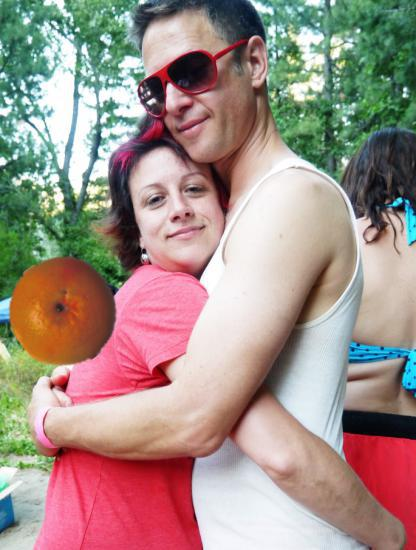Grapefruit: (8, 256, 119, 367)
